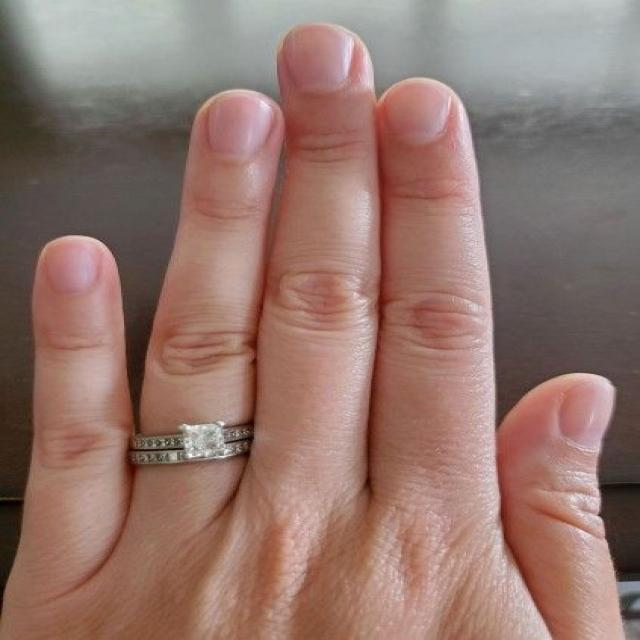Fingernail: (284, 25, 354, 93), (208, 93, 275, 164), (559, 383, 620, 455), (385, 80, 454, 142), (47, 242, 98, 293)
